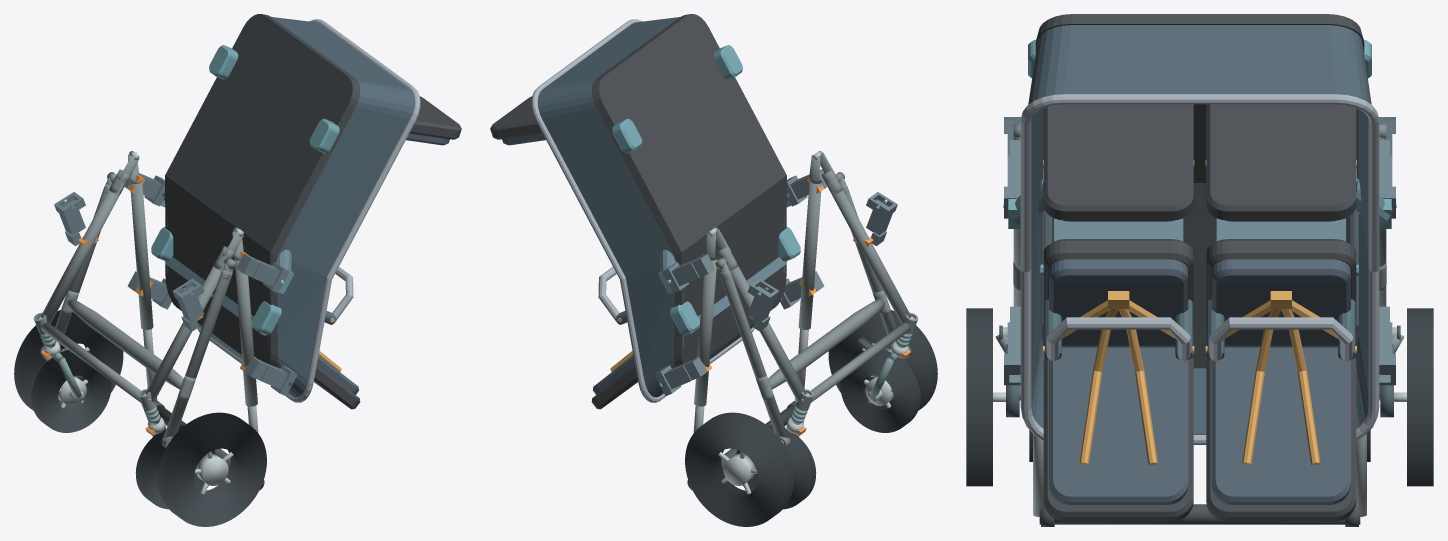
Rendered from S12_w650_state3_wheel_M.glb.
3 renders of one model, left to right at view 1: azimuth 30°, elevation 25°; view 2: azimuth 150°, elevation 25°; view 3: azimuth 270°, elevation 25°, orthographic. The views are drawn at different scales.
Visible parts, largest first — view 1: S12_Cabin, RL_tire.008, FR_tire.008, RR_tire.008, V46_rearbar.009, main_lower_1.009, main_upper_1.009, V46_rear_leg_-1.009, main_upper_-1.009, FL_tire.008, main_lower_-1.009, front_fixed_round_tube.008 (+8 smaller); view 2: S12_Cabin, RR_tire.008, FL_tire.008, RL_tire.008, V46_rearbar.009, main_lower_-1.009, main_upper_-1.009, V46_rear_leg_1.009, main_upper_1.009, FR_tire.008, main_lower_1.009, front_fixed_round_tube.008 (+8 smaller); view 3: S12_Cabin, RL_tire.008, RR_tire.008, round_handle.008, S12_Cabin_Mount_M, Universal_Cabin_Receiver_H_1, Universal_Cabin_Receiver_H_-1, Universal_Cabin_Receiver_M_1, Universal_Cabin_Receiver_M_-1, handle_slider_1.008, handle_slider_-1.008.
Boxes of the visible parts, x1=… form: S12_Cabin: x1=151, y1=14, x2=461, y2=409; RL_tire.008: x1=157, y1=412, x2=266, y2=526; FR_tire.008: x1=31, y1=350, x2=111, y2=432; RR_tire.008: x1=14, y1=310, x2=123, y2=410; V46_rearbar.009: x1=67, y1=299, x2=183, y2=389; main_lower_1.009: x1=41, y1=183, x2=123, y2=323; main_upper_1.009: x1=130, y1=182, x2=153, y2=329; V46_rear_leg_-1.009: x1=163, y1=269, x2=232, y2=438; main_upper_-1.009: x1=234, y1=259, x2=257, y2=406; FL_tire.008: x1=135, y1=425, x2=215, y2=509; main_lower_-1.009: x1=145, y1=265, x2=223, y2=402; front_fixed_round_tube.008: x1=41, y1=322, x2=140, y2=402; S12_Cabin: x1=490, y1=14, x2=800, y2=409; RR_tire.008: x1=685, y1=412, x2=794, y2=526; FL_tire.008: x1=840, y1=350, x2=920, y2=432; RL_tire.008: x1=828, y1=310, x2=937, y2=410; V46_rearbar.009: x1=768, y1=299, x2=884, y2=389; main_lower_-1.009: x1=828, y1=183, x2=910, y2=323; main_upper_-1.009: x1=798, y1=182, x2=821, y2=329; V46_rear_leg_1.009: x1=719, y1=269, x2=788, y2=438; main_upper_1.009: x1=694, y1=259, x2=717, y2=406; FR_tire.008: x1=736, y1=425, x2=816, y2=509; main_lower_1.009: x1=728, y1=265, x2=806, y2=402; front_fixed_round_tube.008: x1=811, y1=322, x2=910, y2=402; S12_Cabin: x1=1020, y1=14, x2=1379, y2=521; RL_tire.008: x1=966, y1=308, x2=992, y2=486; RR_tire.008: x1=1407, y1=308, x2=1433, y2=486; round_handle.008: x1=1039, y1=504, x2=1360, y2=524; S12_Cabin_Mount_M: x1=1003, y1=168, x2=1396, y2=228; Universal_Cabin_Receiver_H_1: x1=1379, y1=306, x2=1395, y2=385; Universal_Cabin_Receiver_H_-1: x1=1004, y1=306, x2=1020, y2=385; Universal_Cabin_Receiver_M_1: x1=1379, y1=140, x2=1395, y2=218; Universal_Cabin_Receiver_M_-1: x1=1004, y1=140, x2=1020, y2=218; handle_slider_1.008: x1=1356, y1=434, x2=1366, y2=516; handle_slider_-1.008: x1=1033, y1=434, x2=1043, y2=516.
Size of the model in its own units: 0.982 by 1.09 by 0.7871.
